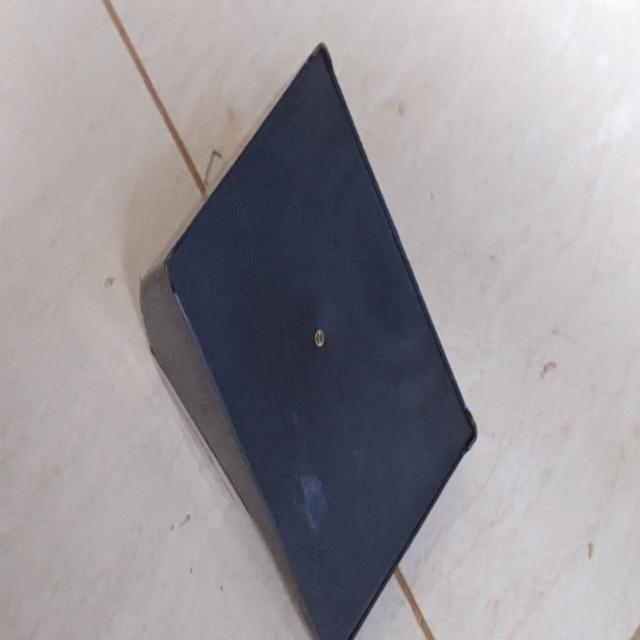Ammeter Analog: (136, 32, 482, 631)
